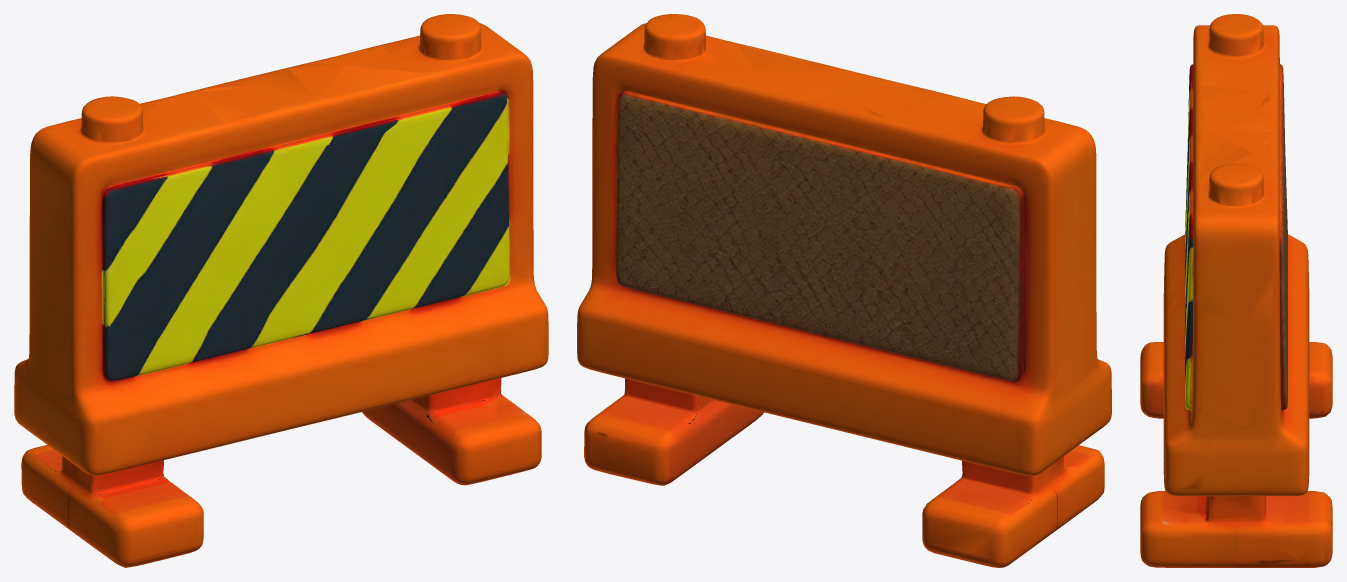
The model's file is obstacle_lowbarrier.glb.
3 views of the same model, side by side, from view 1: azimuth 30°, elevation 25°; view 2: azimuth 150°, elevation 25°; view 3: azimuth 270°, elevation 25° (orthographic). The views are drawn at different scales.
Parts seen in each view (by area): view 1: model; view 2: model; view 3: model.
Boxes of the visible parts, <box> form: model: <box>14,14,548,567</box>; model: <box>577,14,1111,567</box>; model: <box>1140,14,1332,567</box>.
Bounding box in the file's own units: 1.9 × 1.63 × 0.7514.
Materials: 1 (1 with a texture image).
